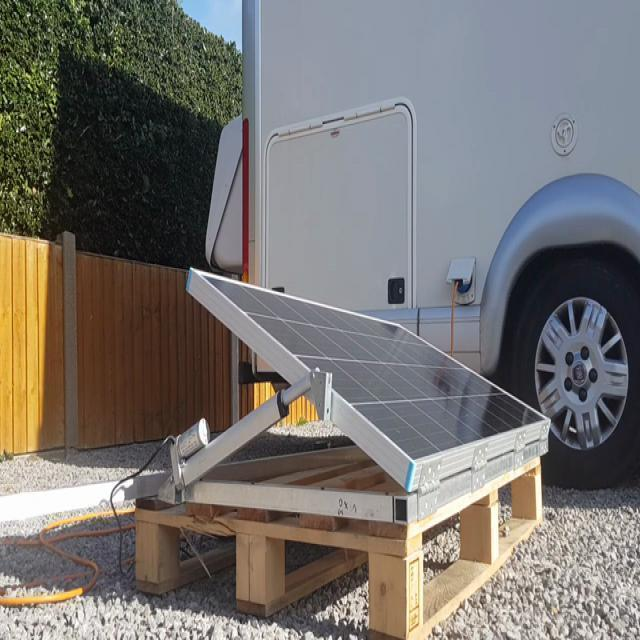Normal Solar Panel: (200, 280, 550, 467)
